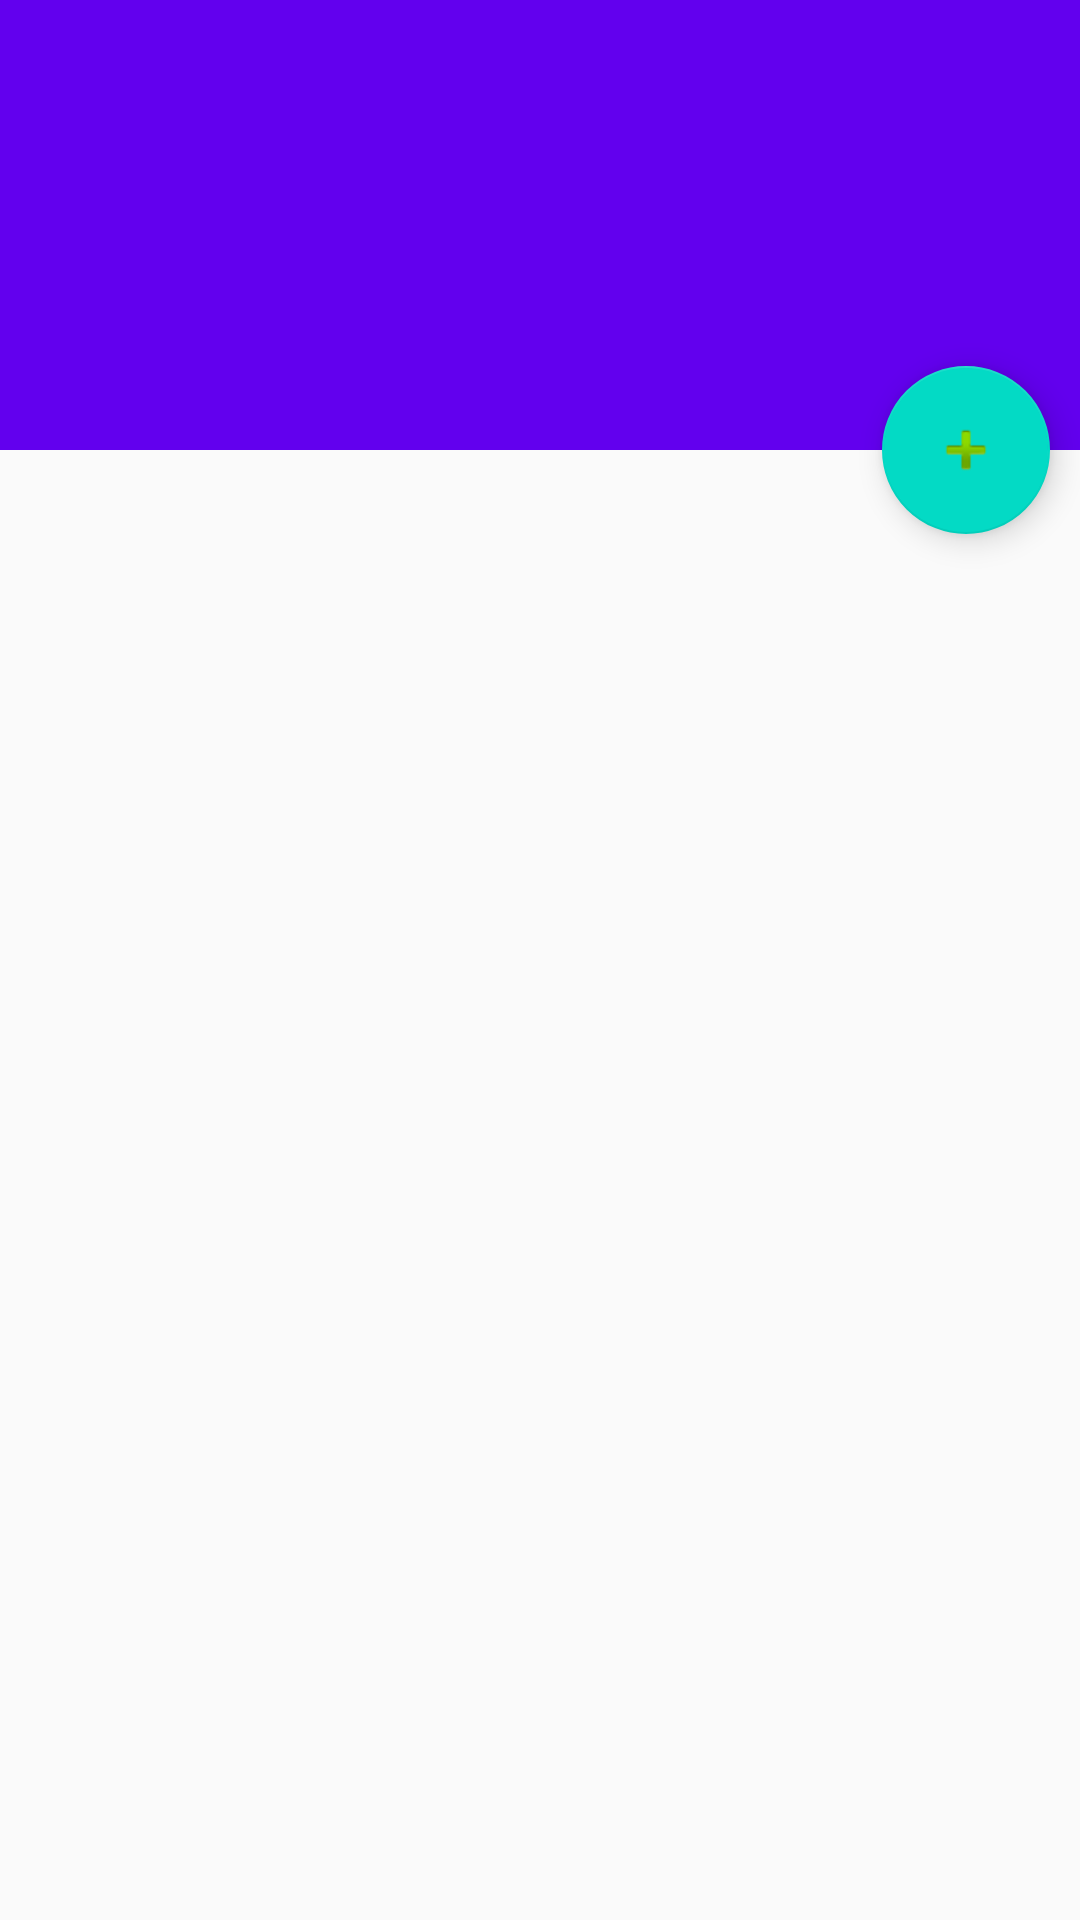

Icon click points for this 1080w x 1920h phone screenshot, format (x=x, y=y):
add: (x=966, y=450)
